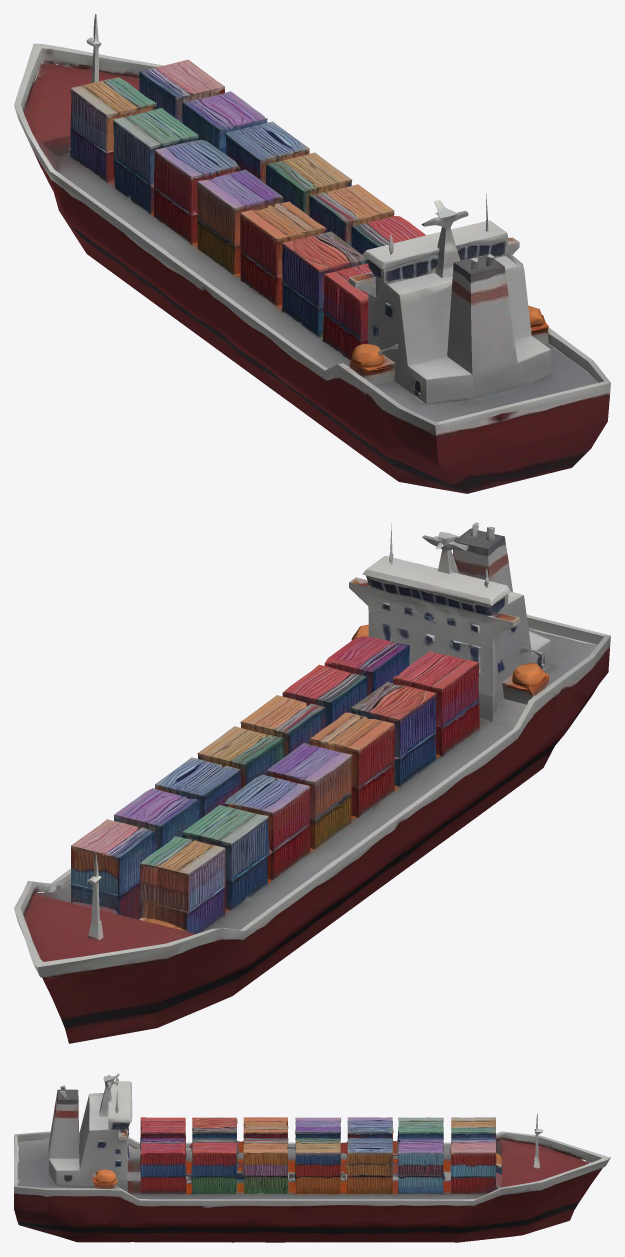
Rendered from navio.glb.
3 views of the same model, one above another, from view 1: azimuth 30°, elevation 25°; view 2: azimuth 150°, elevation 25°; view 3: azimuth 270°, elevation 25° (orthographic). The views are drawn at different scales.
Parts seen in each view (by area): view 1: tripo_node_39423cc6-4730-4672-a32f-d3af94d51a35; view 2: tripo_node_39423cc6-4730-4672-a32f-d3af94d51a35; view 3: tripo_node_39423cc6-4730-4672-a32f-d3af94d51a35.
Part boxes in pixels (x1=…): tripo_node_39423cc6-4730-4672-a32f-d3af94d51a35: x1=14, y1=14, x2=610, y2=493; tripo_node_39423cc6-4730-4672-a32f-d3af94d51a35: x1=14, y1=522, x2=610, y2=1043; tripo_node_39423cc6-4730-4672-a32f-d3af94d51a35: x1=14, y1=1073, x2=610, y2=1242.
Size of the model in its own units: 14.38 by 16.88 by 61.9.
1 material, 1 textured.
